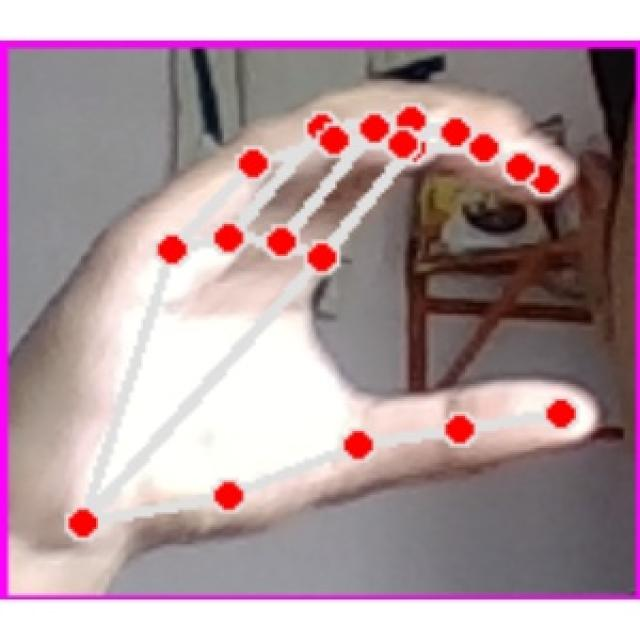C: (16, 64, 624, 565)
